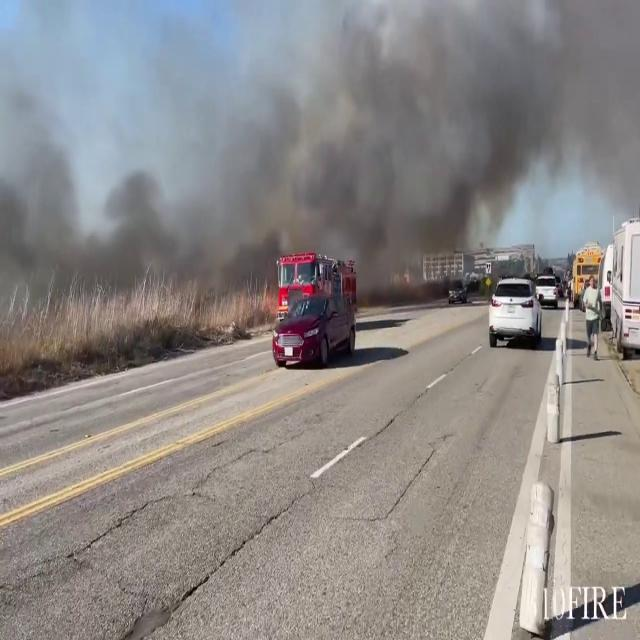Smoke: (33, 0, 640, 275)
